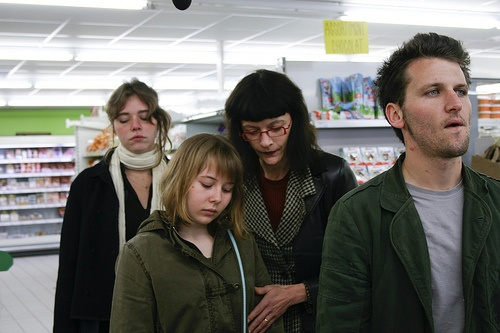head: (377, 31, 472, 166), (228, 71, 305, 167), (168, 131, 235, 229), (101, 76, 166, 160)
person: (316, 28, 498, 333), (217, 61, 352, 333), (109, 132, 269, 333), (52, 75, 173, 333)
